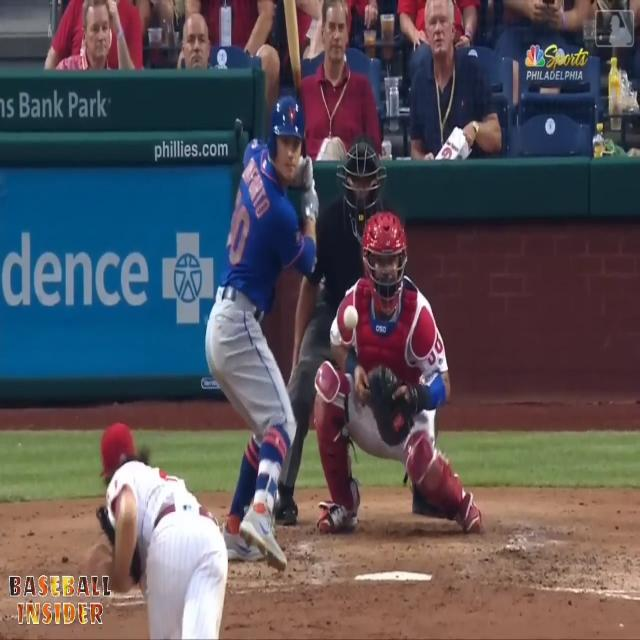baseball: (344, 304, 358, 332)
